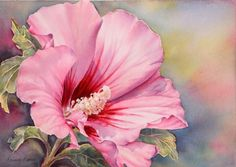Hibiscus: (21, 10, 181, 167)
